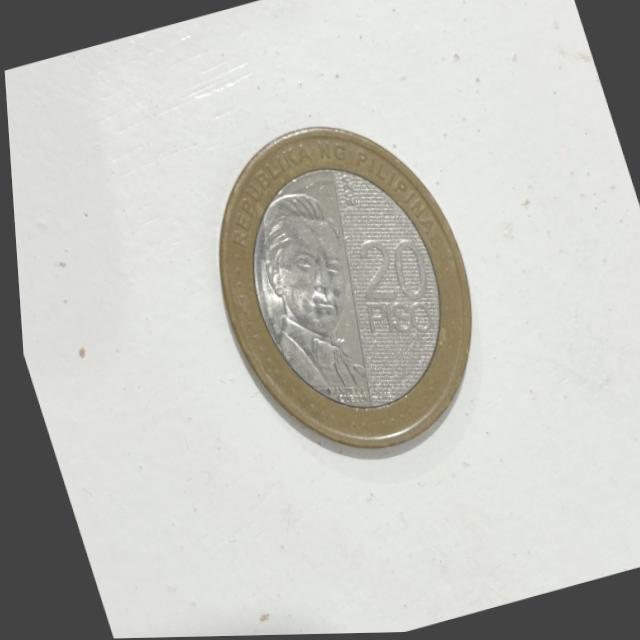20_New_Front: (330, 223, 450, 367)
